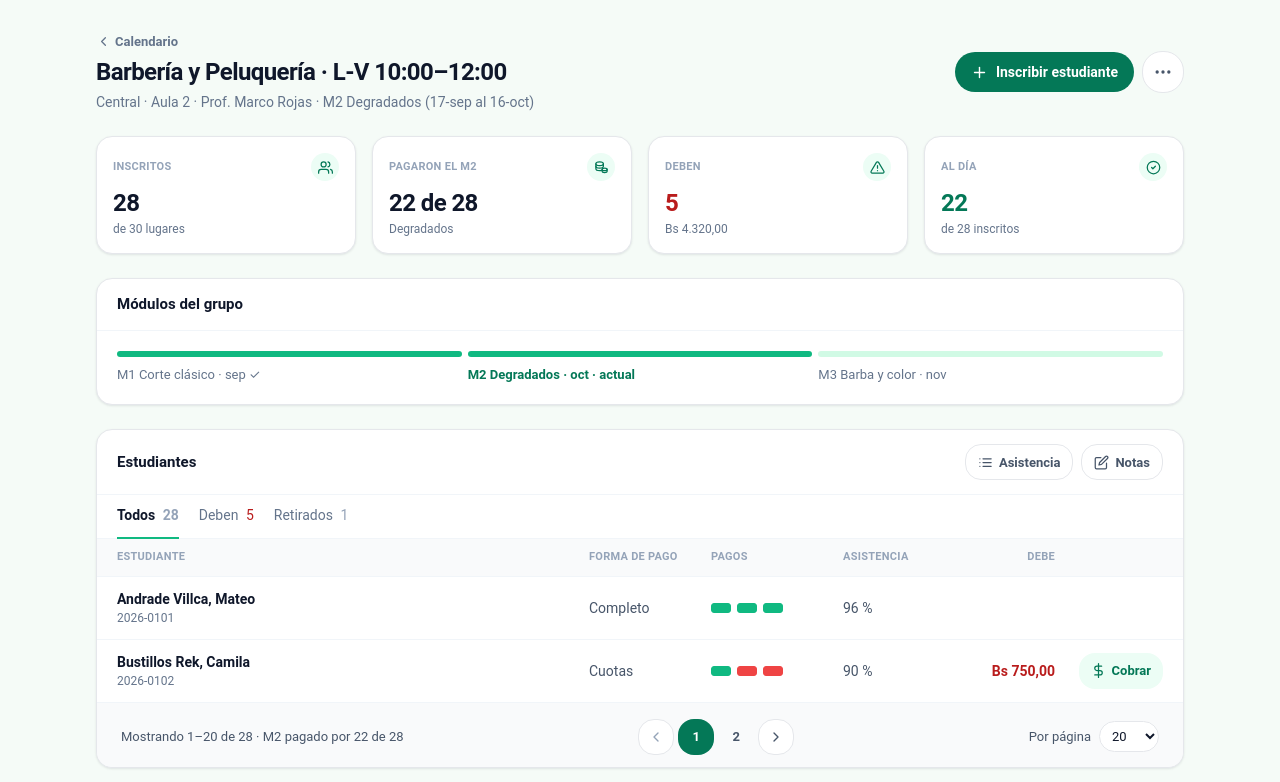
Test: E3 · detalle de grupo › cancelar el grupo pide confirmación, lo marca y deja de inscribir
Step 1. Click the button named "Más acciones del grupo" → {"x": 1163, "y": 72}, box [1142,51,1184,93]
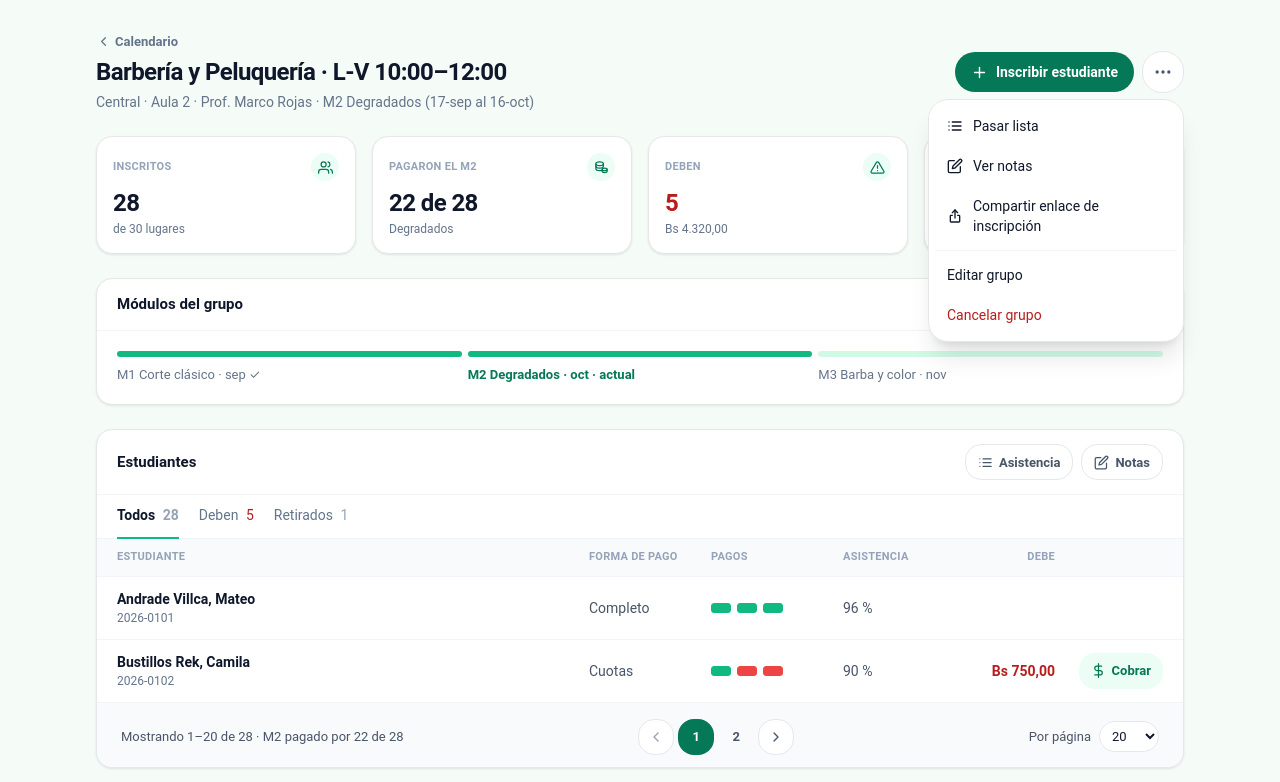
Step 2. Click the menu item "Cancelar grupo" → {"x": 1056, "y": 315}, box [935,295,1177,335]
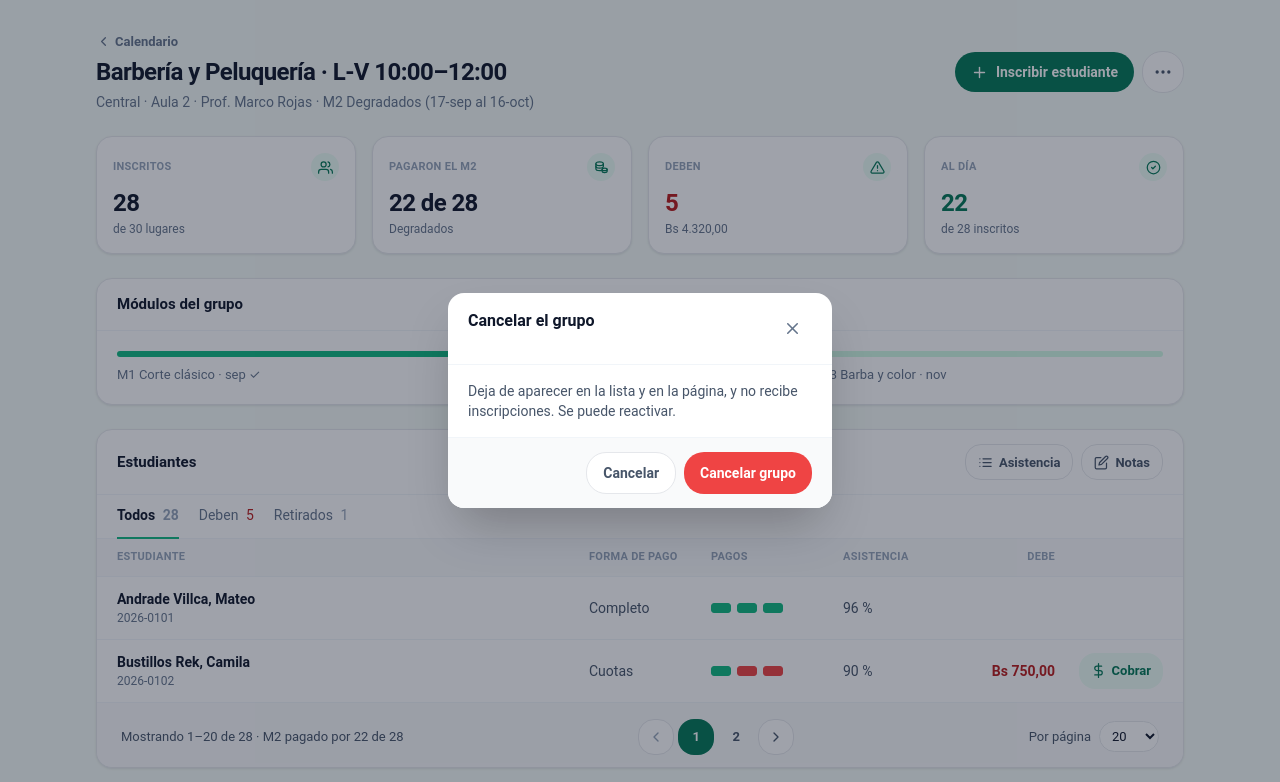
Step 3. Click the button "Cancelar grupo" → {"x": 748, "y": 472}, box [684,452,812,494]
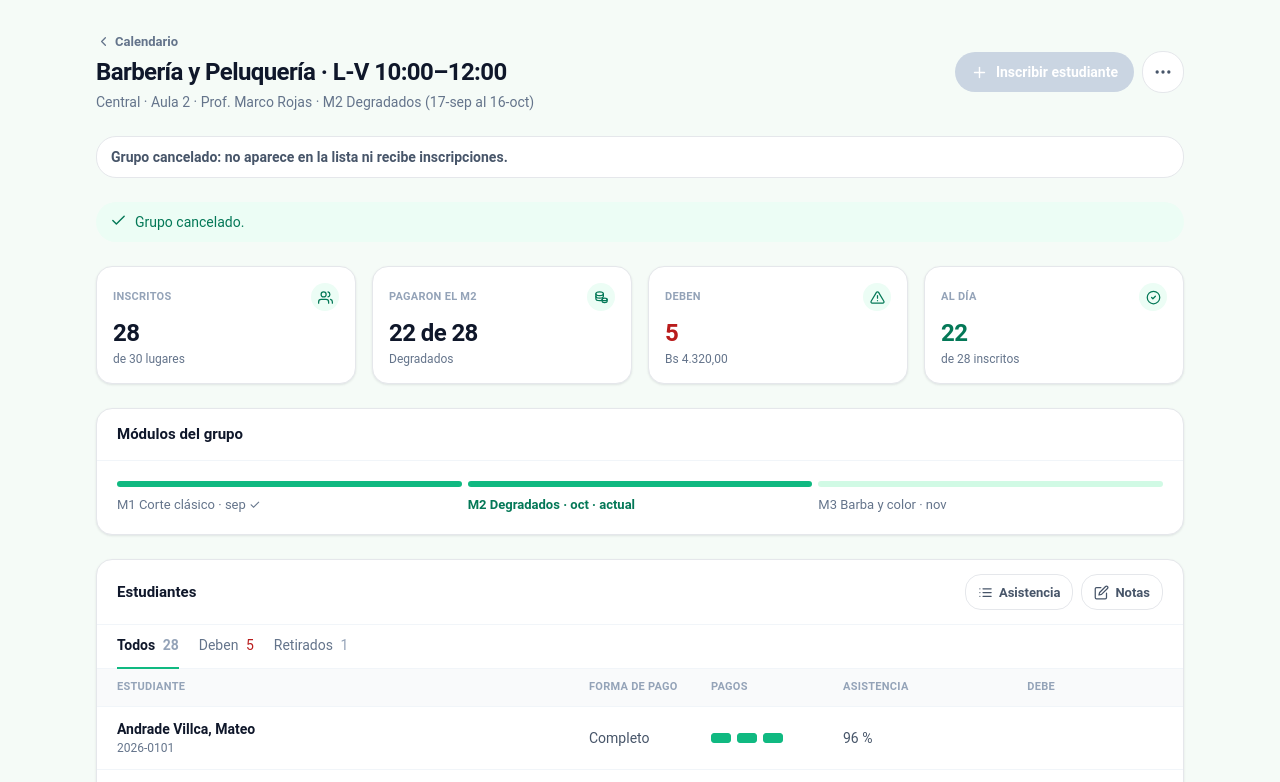
Now the message shows "Grupo cancelado", box [111,149,508,165]
Now the button "Inscribir estudiante" is disabled, box [955,52,1134,92]
